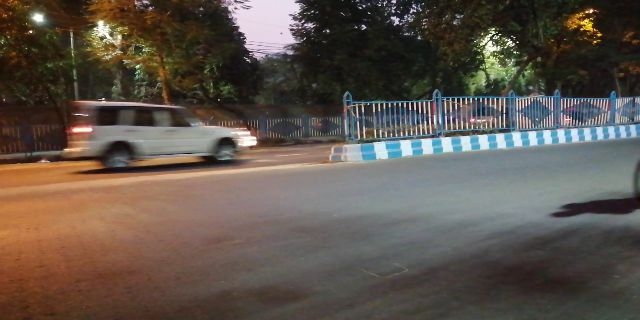Car: (57, 100, 261, 167)
